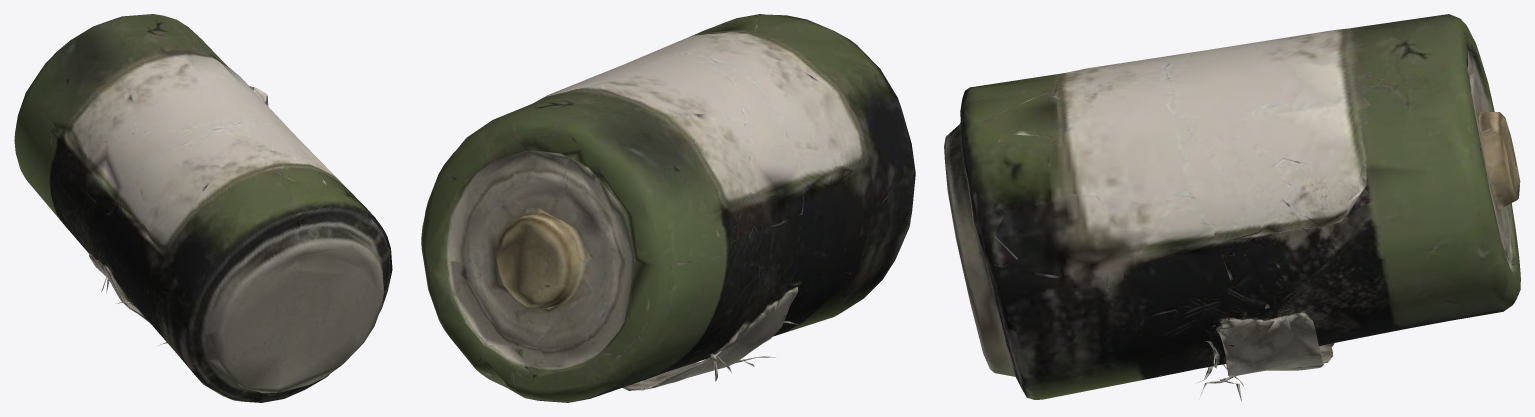
Rendered from battery.ad35751b.glb.
3 views of the same model, side by side, from view 1: azimuth 30°, elevation 25°; view 2: azimuth 150°, elevation 25°; view 3: azimuth 270°, elevation 25° (orthographic). The views are drawn at different scales.
Visible parts, largest first — view 1: item; view 2: item; view 3: item.
Part boxes in pixels (x1=…): item: x1=14, y1=14, x2=392, y2=402; item: x1=421, y1=14, x2=915, y2=402; item: x1=944, y1=14, x2=1520, y2=401.
Bounding box in the file's own units: 0.0506 × 0.0614 × 0.09.
1 material, 1 textured.
